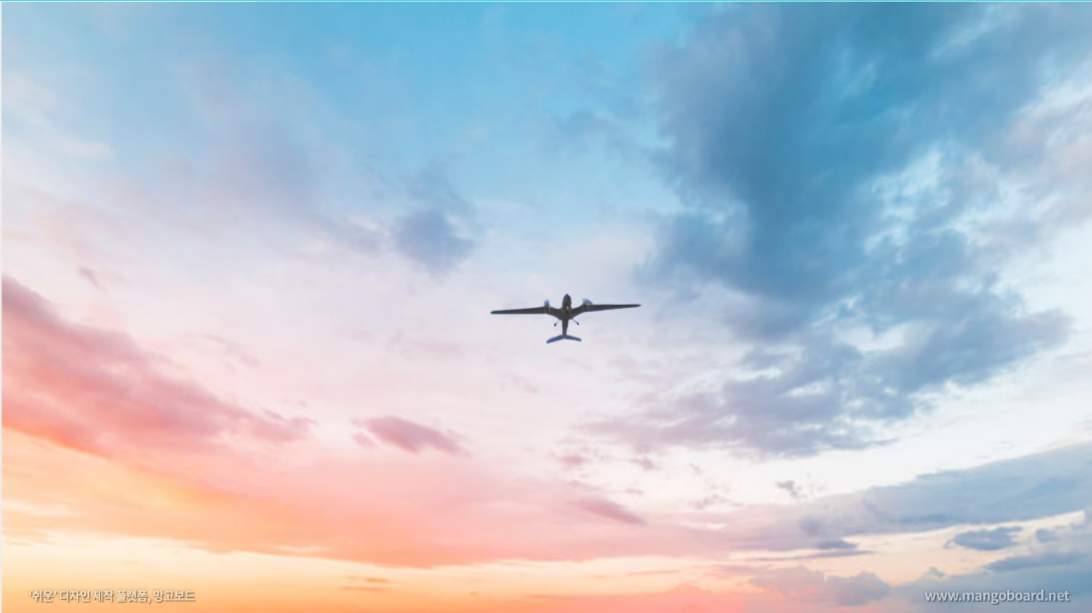military drone: (490, 293, 641, 344)
